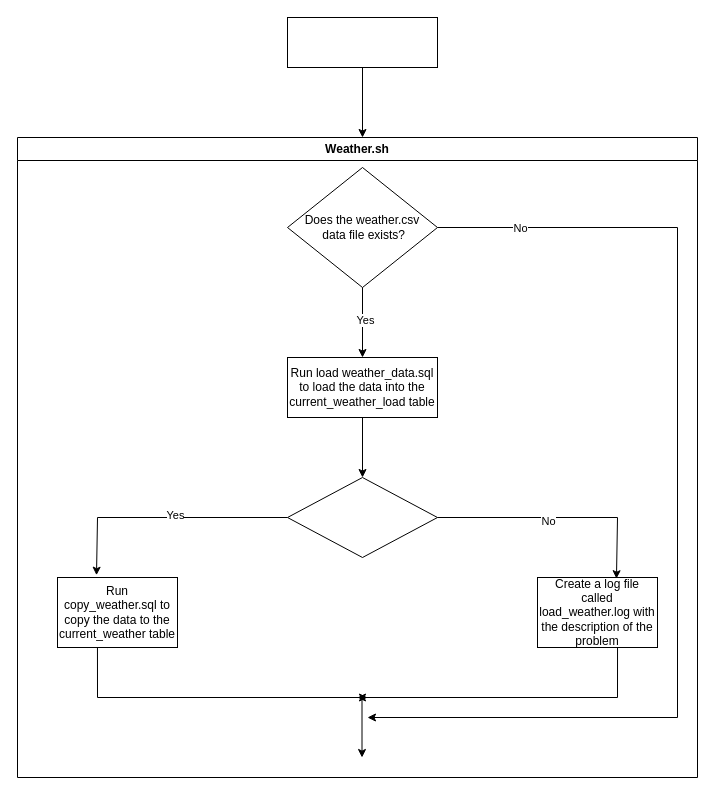
The diagram is 715 pixels wide and 795 high, and some of its shapes have lost their labels. Each missing label, with the box of its shape:
Any problems loading the data?: (286, 476, 438, 558)
Cron Schedular: (286, 16, 438, 68)
